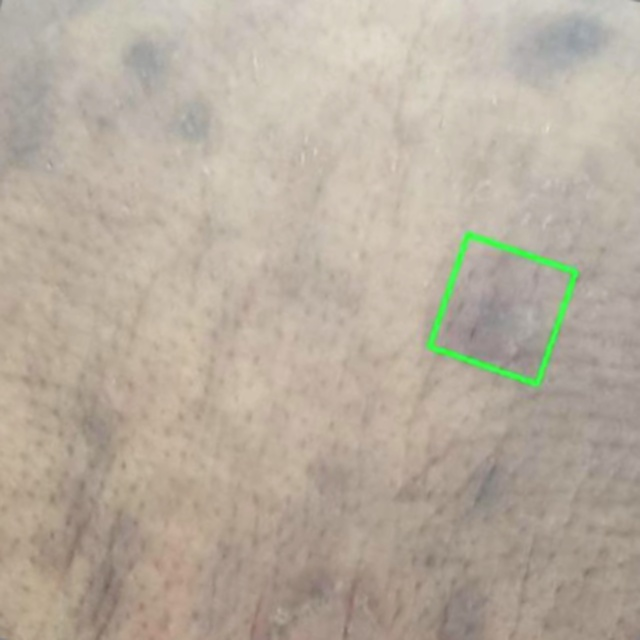Tinea Corporis: (429, 235, 575, 384)
